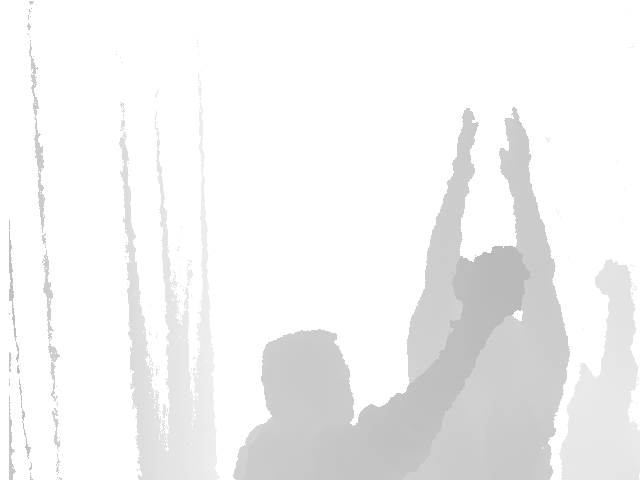hand: (459, 255, 515, 322), (498, 108, 532, 182), (595, 261, 633, 296), (456, 108, 478, 160)
head: (261, 330, 354, 426)
person: (230, 254, 514, 480), (405, 108, 571, 480), (558, 261, 640, 480)
